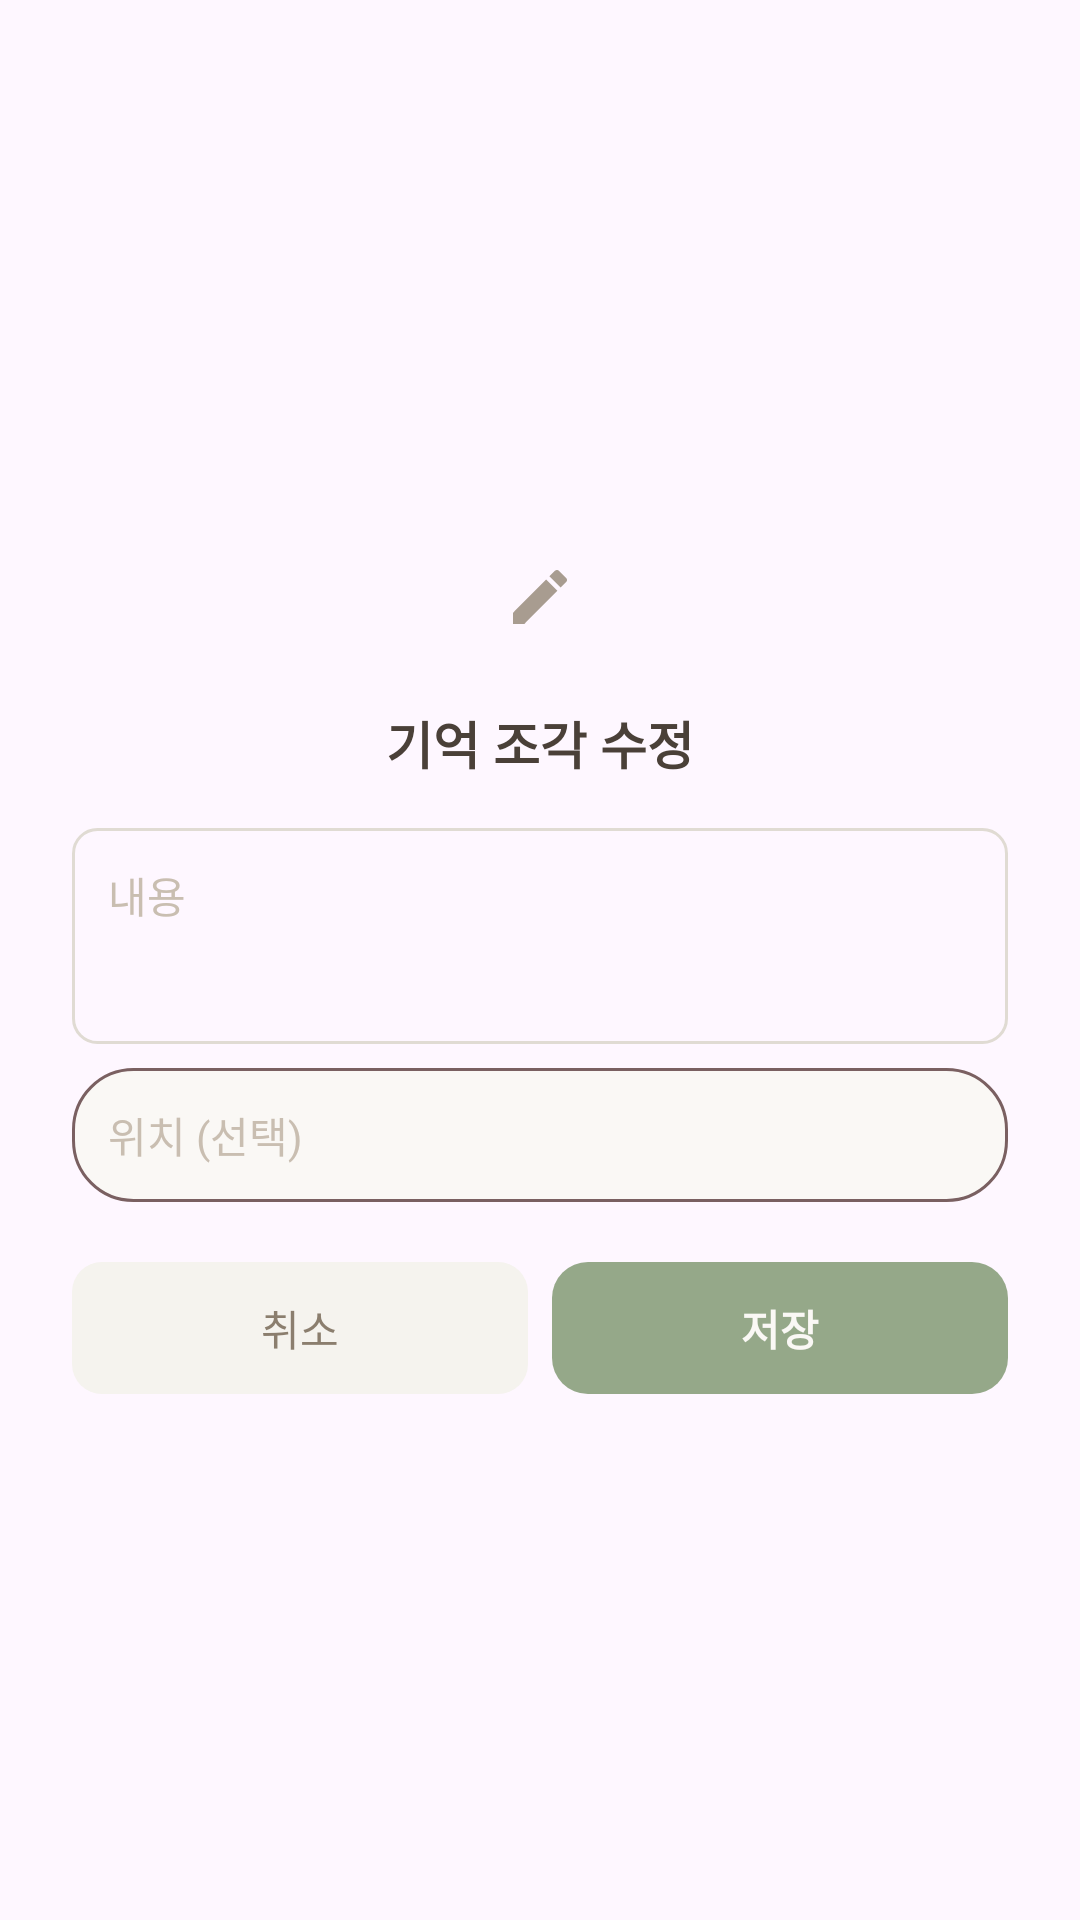

Where to tap for icons on this 1080*1920 app screen, as (x=x, y=y):
edit: (x=540, y=597)
